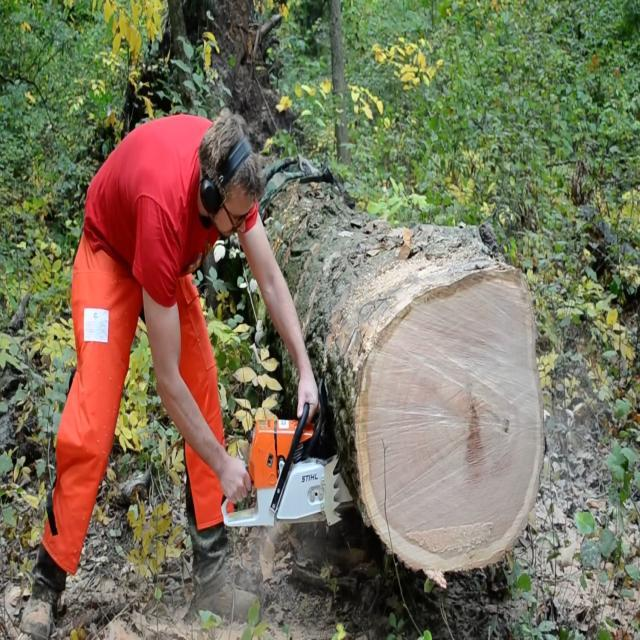Chainsaw: (205, 400, 358, 548)
